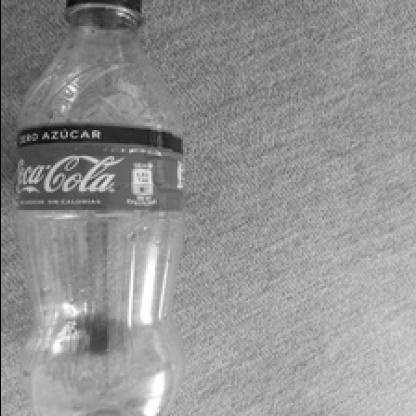plastic_bottles: (0, 0, 189, 416)
